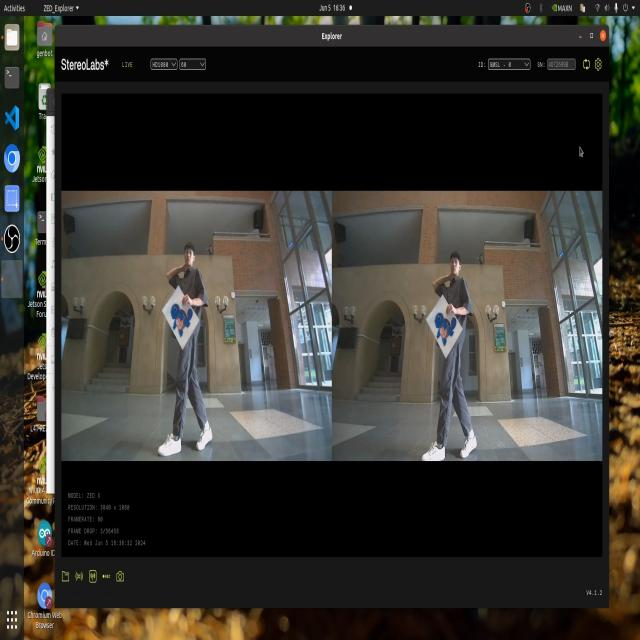blue: (160, 300, 199, 341), (432, 308, 459, 345)
